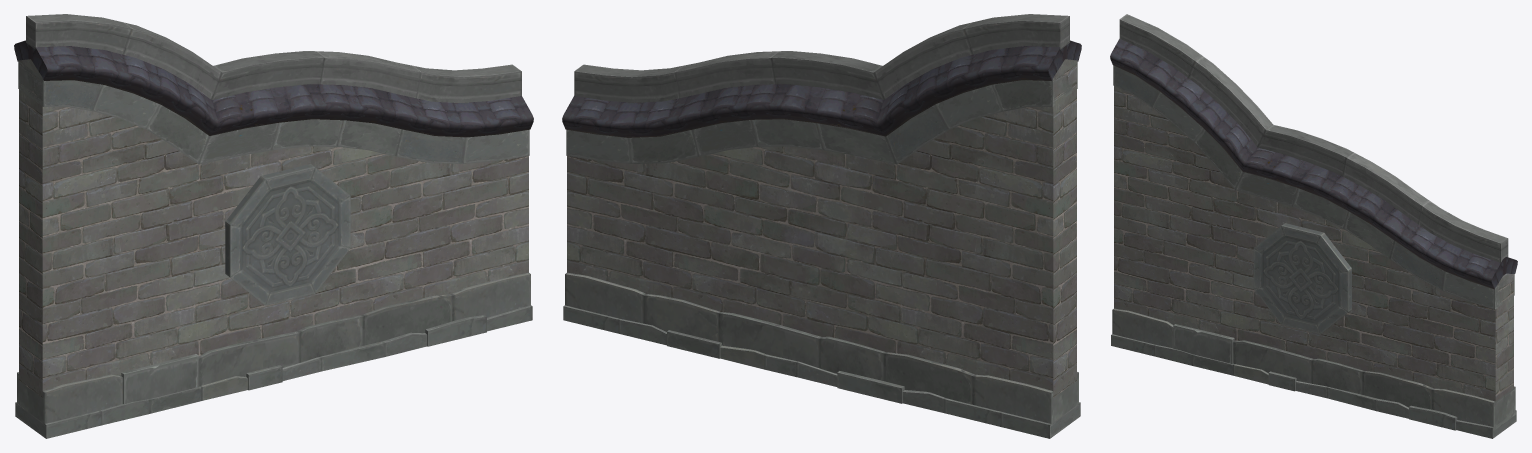
Rendered from Homeworld_Exterior_Cyg_Build_YlbWeiqiang_01_Lod0.fbx.
3 renders of one model, left to right at view 1: azimuth 30°, elevation 25°; view 2: azimuth 150°, elevation 25°; view 3: azimuth 330°, elevation 25°, orthographic. The views are drawn at different scales.
Visible parts, largest first — view 1: Area_Cyg_Build_QYZ_Comp_Weiqiang_D_01_Lod0, Area_Cyg_Build_QYZ_Comp_Huawen_B_01_Vo; view 2: Area_Cyg_Build_QYZ_Comp_Weiqiang_D_01_Lod0; view 3: Area_Cyg_Build_QYZ_Comp_Weiqiang_D_01_Lod0, Area_Cyg_Build_QYZ_Comp_Huawen_B_01_Vo.
Boxes of the visible parts, x1,y1,x2,y2 form: Area_Cyg_Build_QYZ_Comp_Weiqiang_D_01_Lod0: [14, 14, 533, 438]; Area_Cyg_Build_QYZ_Comp_Huawen_B_01_Vo: [225, 164, 350, 305]; Area_Cyg_Build_QYZ_Comp_Weiqiang_D_01_Lod0: [562, 14, 1081, 438]; Area_Cyg_Build_QYZ_Comp_Weiqiang_D_01_Lod0: [1110, 14, 1517, 438]; Area_Cyg_Build_QYZ_Comp_Huawen_B_01_Vo: [1253, 223, 1351, 334].
Bounding box in the file's own units: 5.99 × 4.81 × 0.7446.
